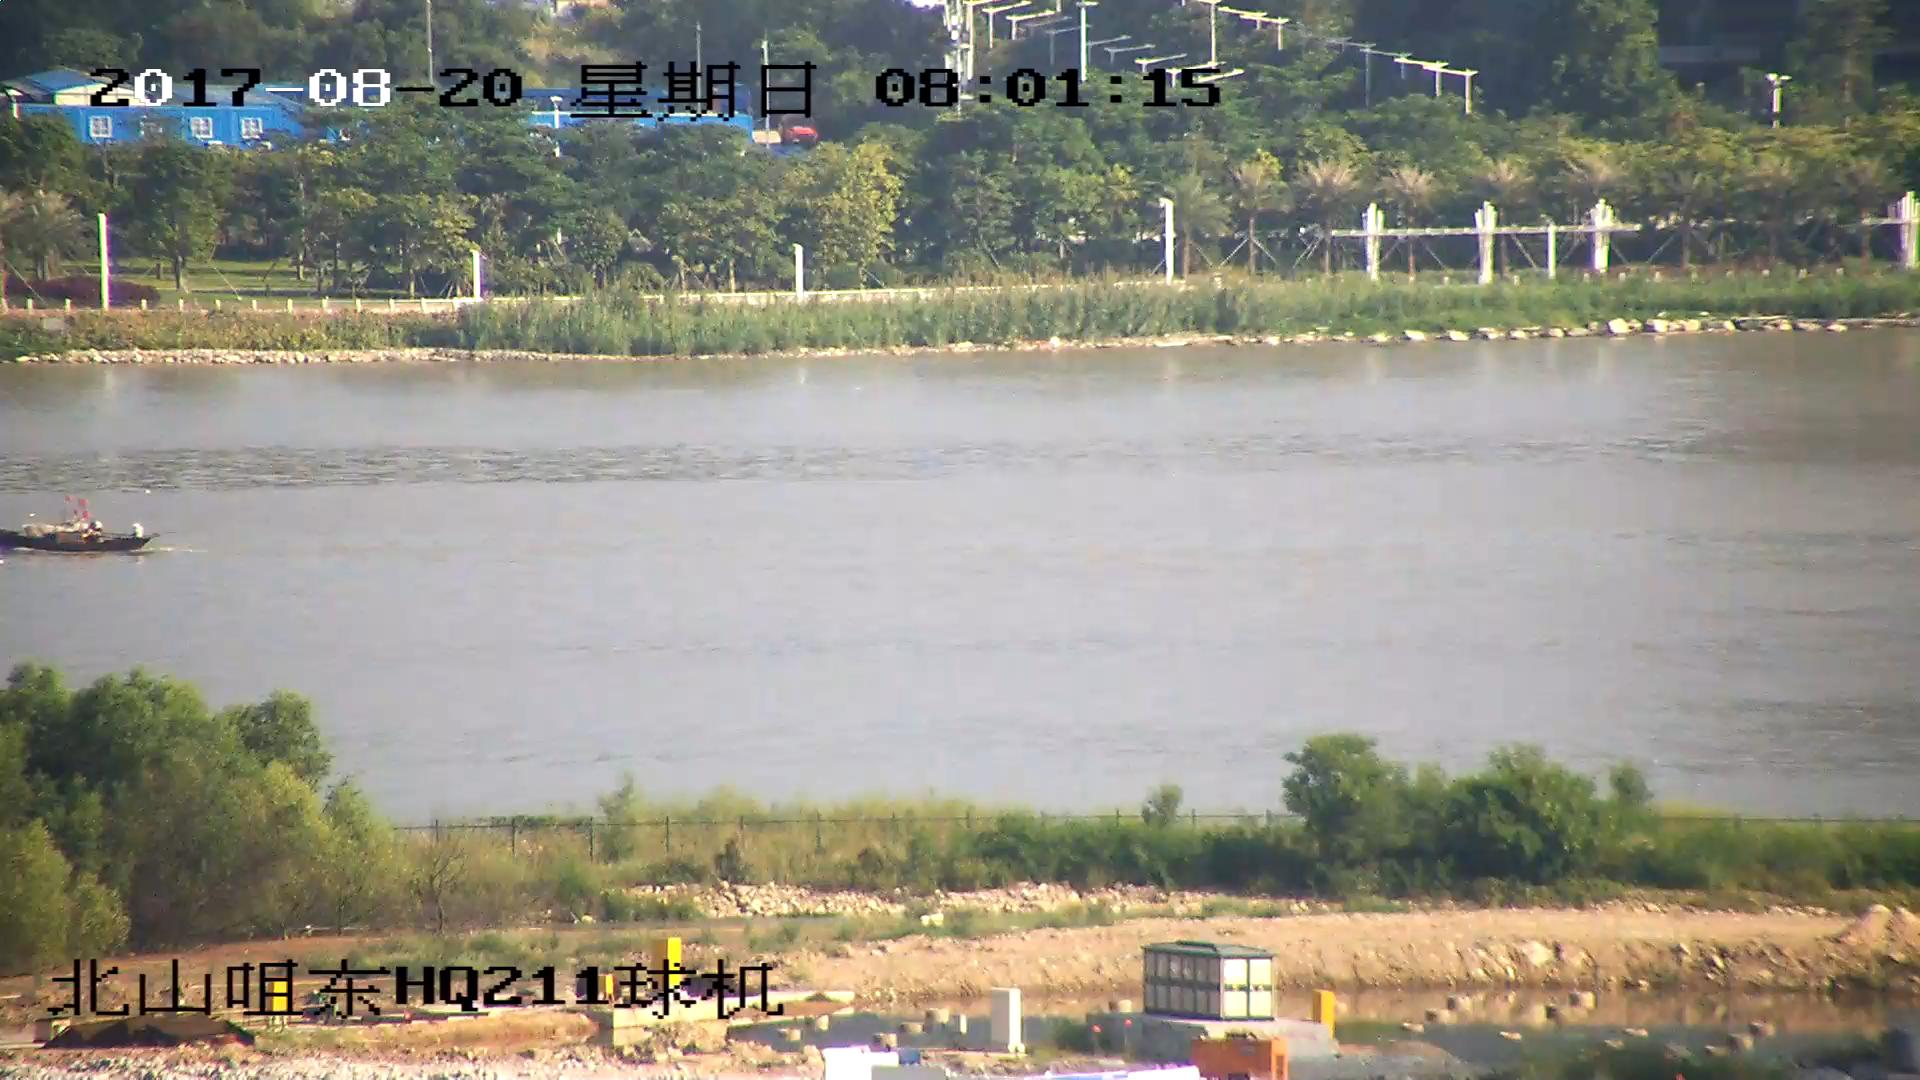fishing boat: (1, 502, 157, 556)
